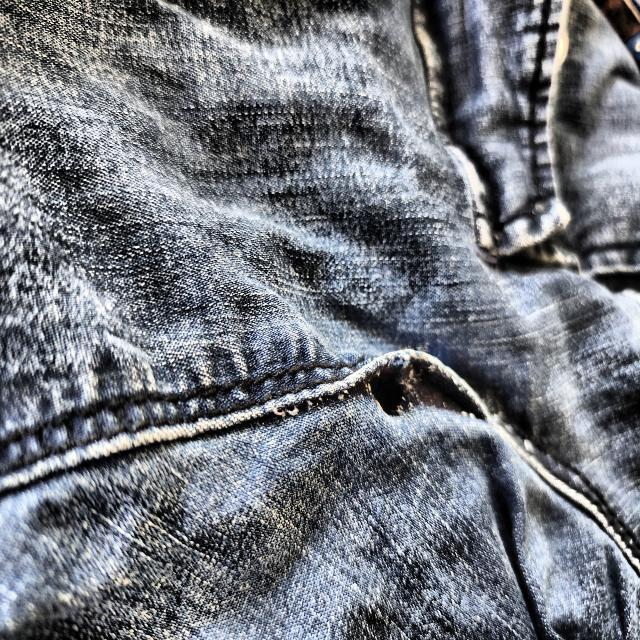gray stitch: (349, 350, 503, 438)
